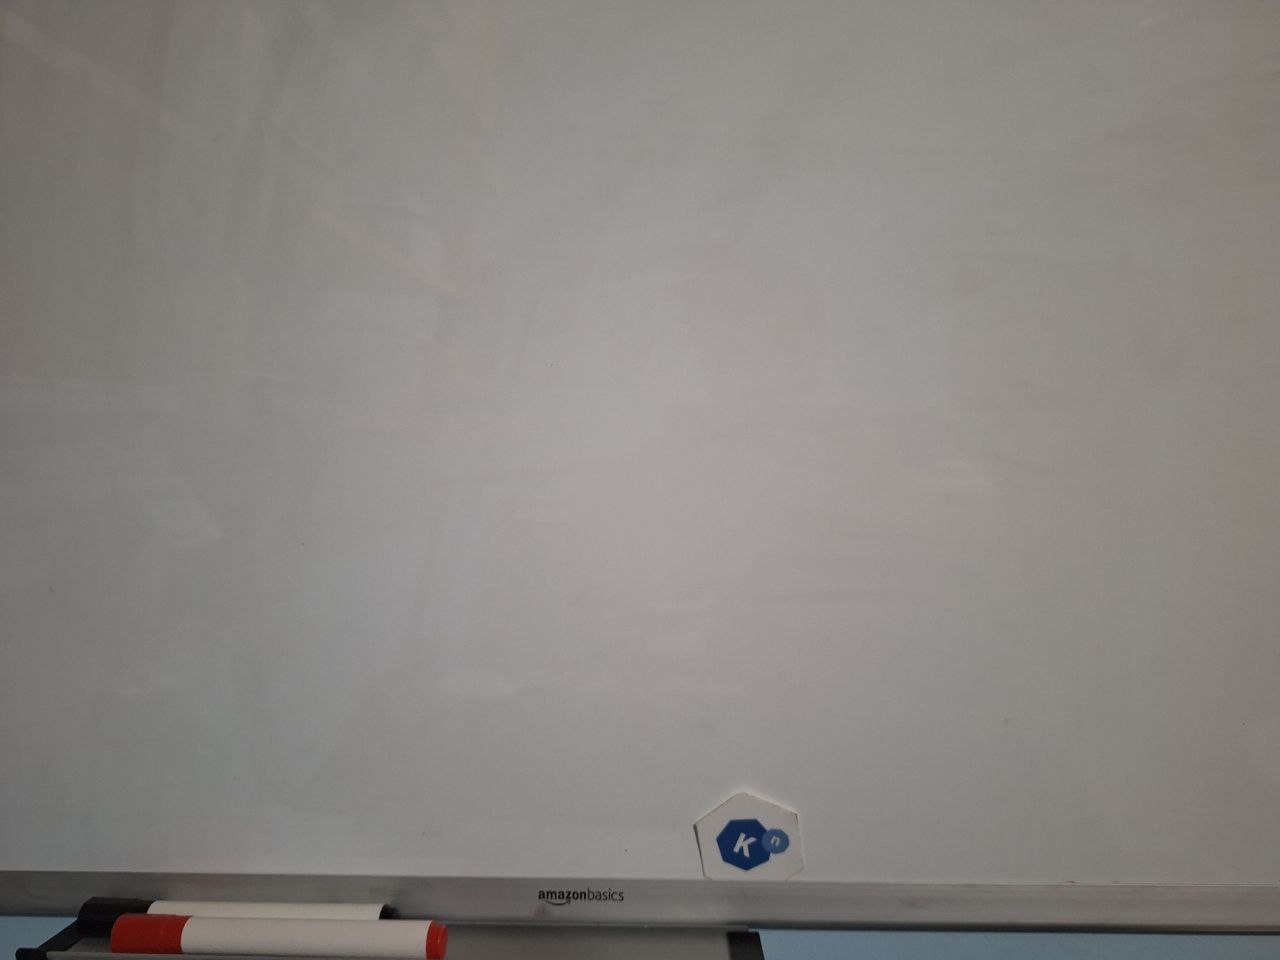knative: (713, 818, 793, 872)
